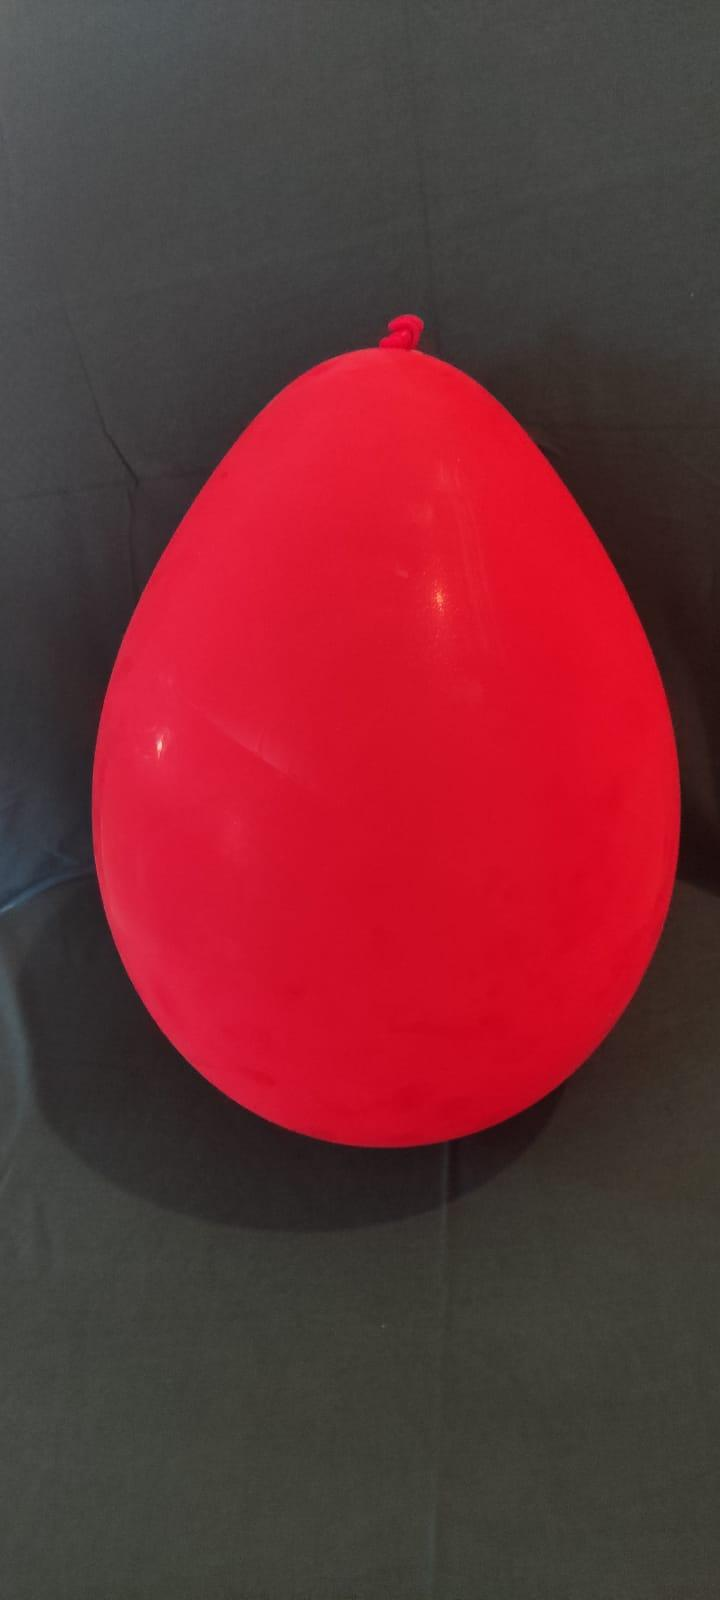red: (88, 304, 692, 1149)
